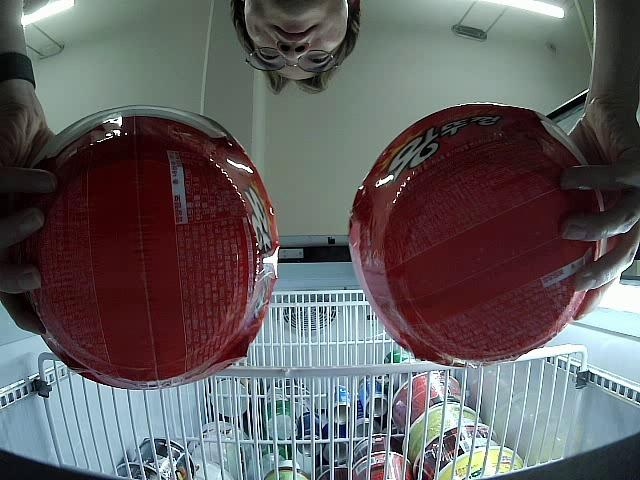00_hand: (558, 119, 640, 319), (0, 87, 50, 334)
10_wangTtukkeong: (25, 104, 284, 389), (349, 103, 609, 367)
